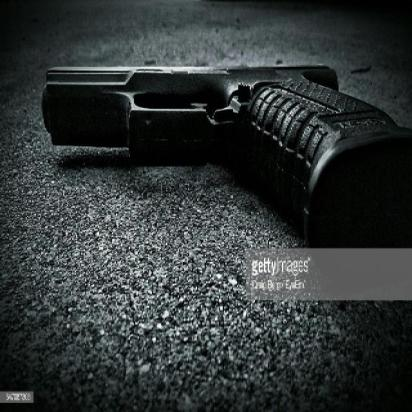Gun: (38, 60, 410, 208)
